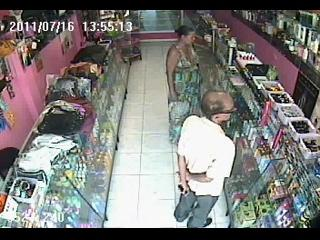Normal: (174, 89, 238, 227), (165, 25, 203, 145)
